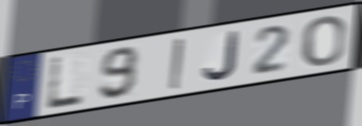2: (250, 24, 294, 78)
9: (97, 45, 141, 101)
I: (168, 36, 185, 92)
J: (202, 29, 241, 82)
L: (44, 54, 86, 112)
O: (301, 14, 347, 69)
